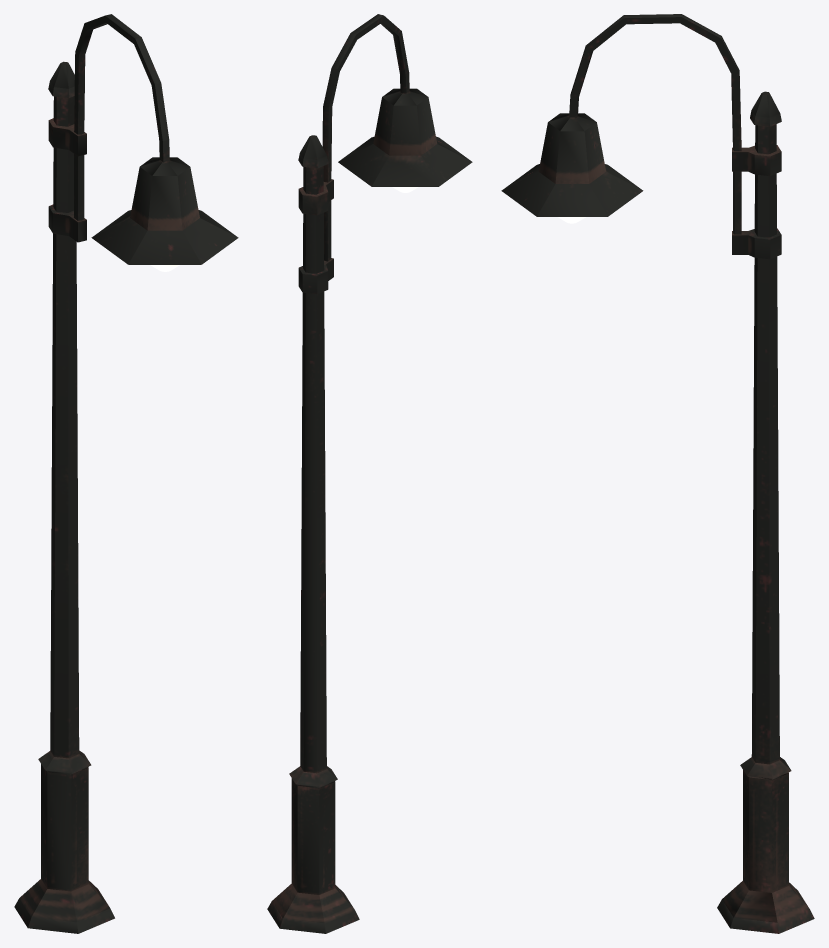
File: ROD0310005.FBX
3 views of the same model, side by side, from view 1: azimuth 30°, elevation 25°; view 2: azimuth 150°, elevation 25°; view 3: azimuth 270°, elevation 25° (orthographic). The views are drawn at different scales.
Visible parts, largest first — view 1: smROD0310005; view 2: smROD0310005; view 3: smROD0310005.
Boxes of the visible parts, bbox=[...] form: smROD0310005: bbox=[14, 14, 238, 933]; smROD0310005: bbox=[267, 14, 472, 933]; smROD0310005: bbox=[501, 14, 814, 933].
Bounding box in the file's own units: 0.4837 × 3.89 × 1.23.
Materials: 1 (1 with a texture image).
